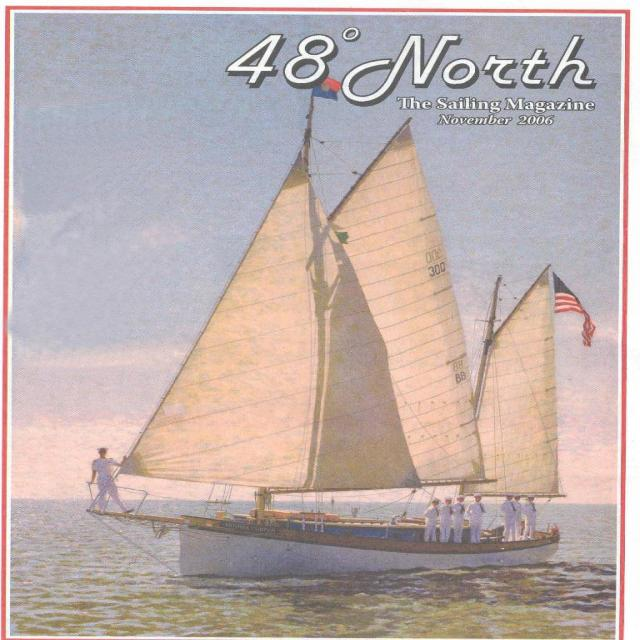Boat: (65, 77, 594, 601)
